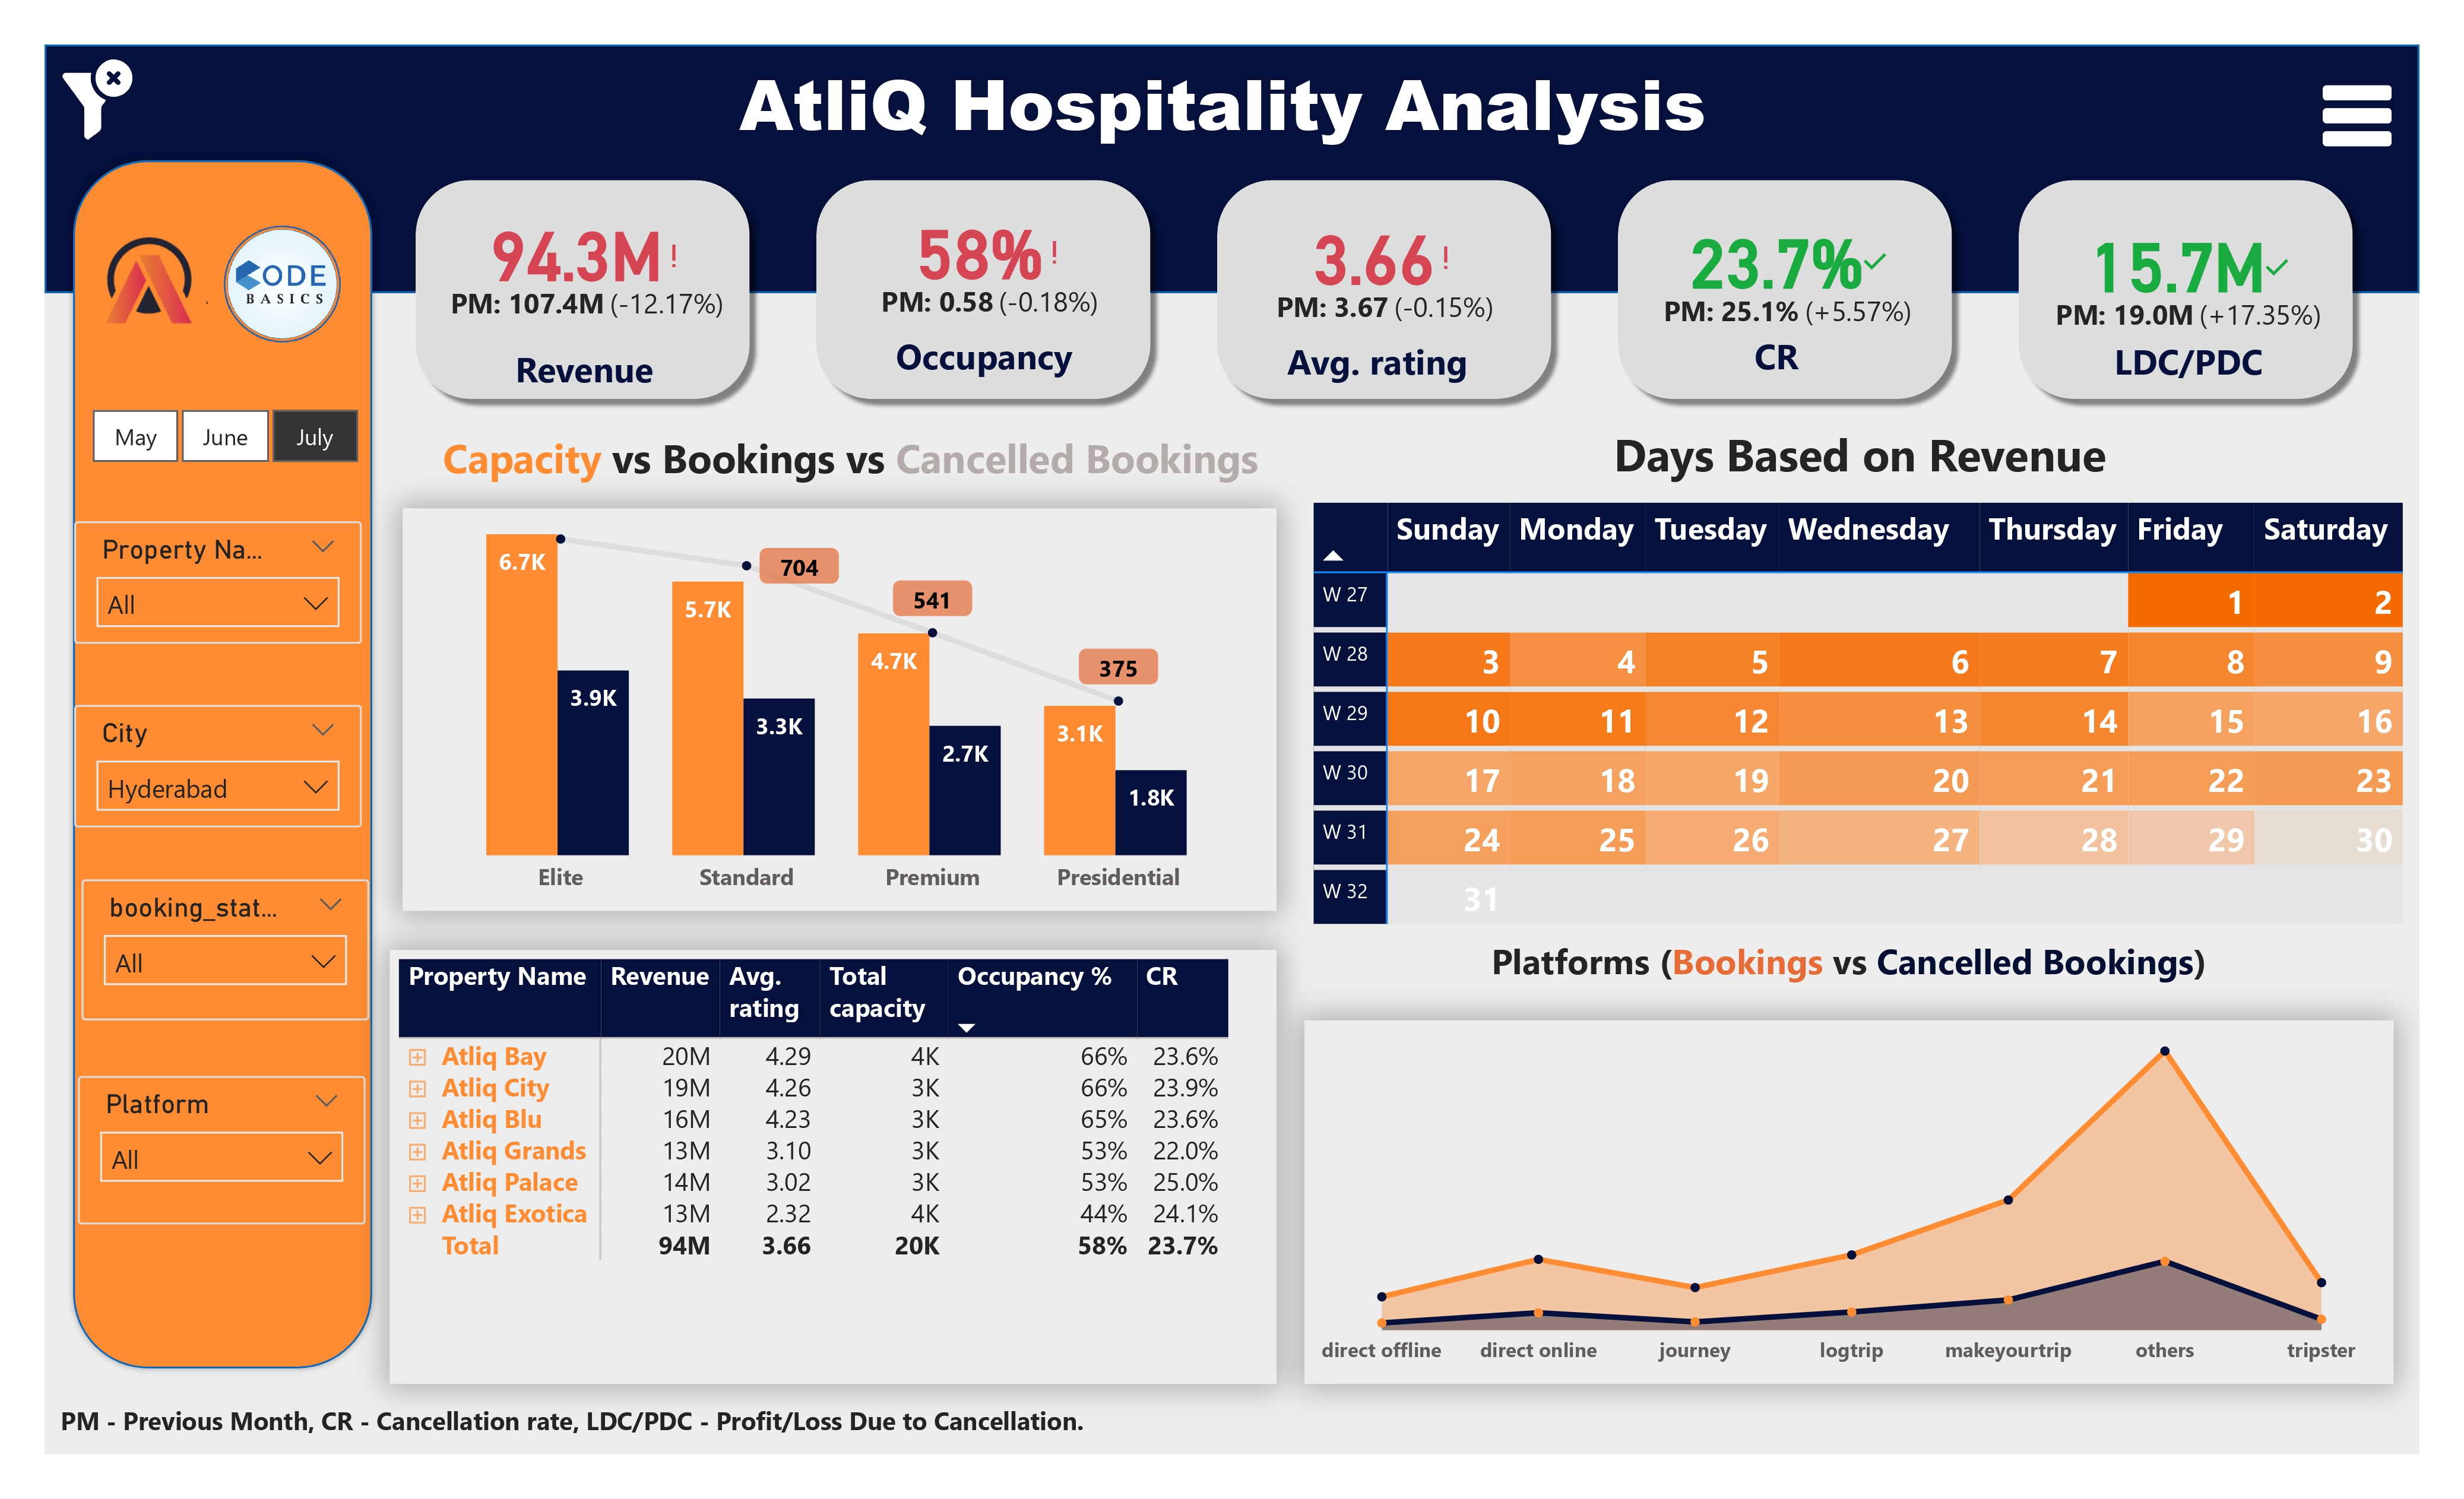

What the dashboard file says about the page in this screenshot:
{"tool":"powerbi","page":{"name":"Monthly","canvas":[1280,760],"ordinal":1},"visuals":[{"type":"group","id":"g1","title":"visuals","box":[0,0,1280,760.7],"z":0},{"type":"textbox","box":[0,727.8,1063.8,32.8],"z":0,"group":"g1"},{"type":"shape","box":[0,0,1280,134.4],"z":1000,"group":"g1"},{"type":"image","box":[2,0,52.8,58.9],"z":1000},{"type":"shape","box":[840.8,65.9,194.5,131.9],"z":2000,"group":"g1"},{"type":"shape","box":[624.8,65.9,194.5,131.9],"z":3000,"group":"g1"},{"type":"textbox","box":[679.4,476.2,586.9,50],"z":3000},{"type":"shape","box":[192.9,65.9,194.5,131.9],"z":4000,"group":"g1"},{"type":"textbox","box":[198.7,203.2,471.7,47],"z":4000},{"type":"shape","box":[408.9,65.9,194.5,131.9],"z":5000,"group":"g1"},{"type":"shape","box":[11.5,59.3,168.2,657.8],"z":6000,"group":"g1"},{"type":"shape","box":[1056.7,65.9,194.5,131.9],"z":7000,"group":"g1"},{"type":"pivotTable","fields":{"Rows":["dim_date.week no"],"Values":["Sum(dim_date.DAY)"],"Columns":["Week_day.Weekday"]},"box":[679.2,242.3,598.4,245.6],"z":8000,"group":"g1"},{"type":"slicer","fields":{"Values":["dim_date.mmm yy.Variation.Date Hierarchy.Month"]},"box":[0,189.6,192.9,42.9],"z":9000,"group":"g1"},{"type":"kpi","title":"Revenue","fields":{"Indicator":["resource_measures.revenue"],"TrendLine":["dim_date.date.Variation.Date Hierarchy.Month"],"Goal":["resource_measures.revenue LM"]},"box":[204.4,92.3,176.4,62.6],"z":10000,"group":"g1"},{"type":"kpi","fields":{"Indicator":["resource_measures.Occupancy %"],"TrendLine":["dim_date.date.Variation.Date Hierarchy.Month"],"Goal":["resource_measures.Occupancy % LM"]},"box":[423.7,89,171.5,65.9],"z":11000,"group":"g1"},{"type":"kpi","fields":{"Goal":["resource_measures.cancellation rate LM"],"TrendLine":["dim_date.date.Variation.Date Hierarchy.Month"],"Indicator":["resource_measures.CR"]},"box":[852.3,90.7,174.8,72.5],"z":12000,"group":"g1"},{"type":"kpi","fields":{"Indicator":["resource_measures.LDC"],"Goal":["resource_measures.LDC LM"],"TrendLine":["dim_date.date.Variation.Date Hierarchy.Month"]},"box":[1068.3,89,174.8,80.8],"z":13000,"group":"g1"},{"type":"kpi","title":"Avg. rating ","fields":{"Indicator":["resource_measures.Avg. rating"],"TrendLine":["dim_date.date.Variation.Date Hierarchy.Month"],"Goal":["resource_measures.avg.rating LM"]},"box":[631.4,92.3,183,65.9],"z":14000,"group":"g1"},{"type":"textbox","box":[1083.1,153.3,145.1,46.2],"z":15000,"group":"g1"},{"type":"textbox","box":[860.6,150,145.1,44.5],"z":16000,"group":"g1"},{"type":"textbox","box":[646.2,153.3,145.1,44.5],"z":17000,"group":"g1"},{"type":"textbox","box":[433.6,150,145.1,44.5],"z":18000,"group":"g1"},{"type":"textbox","box":[217.6,156.6,146.7,37.9],"z":19000,"group":"g1"},{"type":"textbox","box":[1.9,0,1278.1,65.6],"z":20000,"group":"g1"},{"type":"image","title":"three dot menu","box":[1213.7,15.1,64.4,47.3],"z":21000,"group":"g1"},{"type":"slicer","fields":{"Values":["dim_hotels.property_name"]},"box":[16.5,257.2,155,65.9],"z":22000,"group":"g1"},{"type":"slicer","fields":{"Values":["dim_hotels.city"]},"box":[16.5,356.1,155,65.9],"z":23000,"group":"g1"},{"type":"slicer","fields":{"Values":["fact_bookings.booking_status"]},"box":[19.8,450.1,155,75.8],"z":24000,"group":"g1"},{"type":"slicer","fields":{"Values":["fact_bookings.booking_platform"]},"box":[18.1,555.6,155,80.8],"z":25000,"group":"g1"},{"type":"image","title":"atliq","box":[15.1,90.4,77.6,73.8],"z":26000,"group":"g1"},{"type":"image","title":"codebasics","box":[85.2,90.4,85.2,77.6],"z":27000,"group":"g1"},{"type":"lineClusteredColumnComboChart","title":"Capacity vs Bookings vs Cancelled Bookings","fields":{"Category":["dim_rooms.room_class"],"Y":["resource_measures.Total capacity","resource_measures.Total sucessful bookings"],"Y2":["resource_measures.Total cancelled bookings"]},"box":[192.6,250.2,471.7,216.9],"z":28000,"group":"g1"},{"type":"areaChart","fields":{"Category":["fact_bookings.booking_platform"],"Y":["resource_measures.Total bookings","resource_measures.Total cancelled bookings"]},"box":[679.4,526.3,586.9,195.6],"z":29000,"group":"g1"},{"type":"pivotTable","fields":{"Rows":["dim_hotels.property_name","dim_hotels.city"],"Values":["resource_measures.revenue","resource_measures.Avg. rating","resource_measures.Total capacity","resource_measures.Occupancy %","resource_measures.CR"]},"box":[186.3,488,478.1,234.1],"z":30000,"group":"g1"},{"type":"textbox","box":[679.2,199.5,598.4,49.5],"z":31000,"group":"g1"}]}

Visuals, with their boxes on the page's 1280x760 design canvas (x1, y1, x2, y2). These are canvas units, not pixel positions in the 2464x1499 screenshot, which may show the page scaled, cropped or inside an application window:
"visuals" group: Rect(0, 0, 1280, 761)
textbox: Rect(0, 728, 1064, 761)
shape: Rect(0, 0, 1280, 134)
image: Rect(2, 0, 55, 59)
shape: Rect(841, 66, 1035, 198)
shape: Rect(625, 66, 819, 198)
textbox: Rect(679, 476, 1266, 526)
shape: Rect(193, 66, 387, 198)
textbox: Rect(199, 203, 670, 250)
shape: Rect(409, 66, 603, 198)
shape: Rect(12, 59, 180, 717)
shape: Rect(1057, 66, 1251, 198)
pivotTable - dim_date.week no x Sum(dim_date.DAY): Rect(679, 242, 1278, 488)
slicer - dim_date.mmm yy.Variation.Date Hierarchy.Month: Rect(0, 190, 193, 232)
"Revenue" kpi: Rect(204, 92, 381, 155)
kpi - resource_measures.Occupancy % x dim_date.date.Variation.Date Hierarchy.Month: Rect(424, 89, 595, 155)
kpi - resource_measures.cancellation rate LM x dim_date.date.Variation.Date Hierarchy.Month: Rect(852, 91, 1027, 163)
kpi - resource_measures.LDC x resource_measures.LDC LM: Rect(1068, 89, 1243, 170)
"Avg. rating " kpi: Rect(631, 92, 814, 158)
textbox: Rect(1083, 153, 1228, 200)
textbox: Rect(861, 150, 1006, 194)
textbox: Rect(646, 153, 791, 198)
textbox: Rect(434, 150, 579, 194)
textbox: Rect(218, 157, 364, 194)
textbox: Rect(2, 0, 1280, 66)
"three dot menu" image: Rect(1214, 15, 1278, 62)
slicer - dim_hotels.property_name: Rect(16, 257, 172, 323)
slicer - dim_hotels.city: Rect(16, 356, 172, 422)
slicer - fact_bookings.booking_status: Rect(20, 450, 175, 526)
slicer - fact_bookings.booking_platform: Rect(18, 556, 173, 636)
"atliq" image: Rect(15, 90, 93, 164)
"codebasics" image: Rect(85, 90, 170, 168)
"Capacity vs Bookings vs Cancelled Bookings" lineClusteredColumnComboChart: Rect(193, 250, 664, 467)
areaChart - fact_bookings.booking_platform x resource_measures.Total bookings: Rect(679, 526, 1266, 722)
pivotTable - dim_hotels.property_name x dim_hotels.city: Rect(186, 488, 664, 722)
textbox: Rect(679, 200, 1278, 249)
